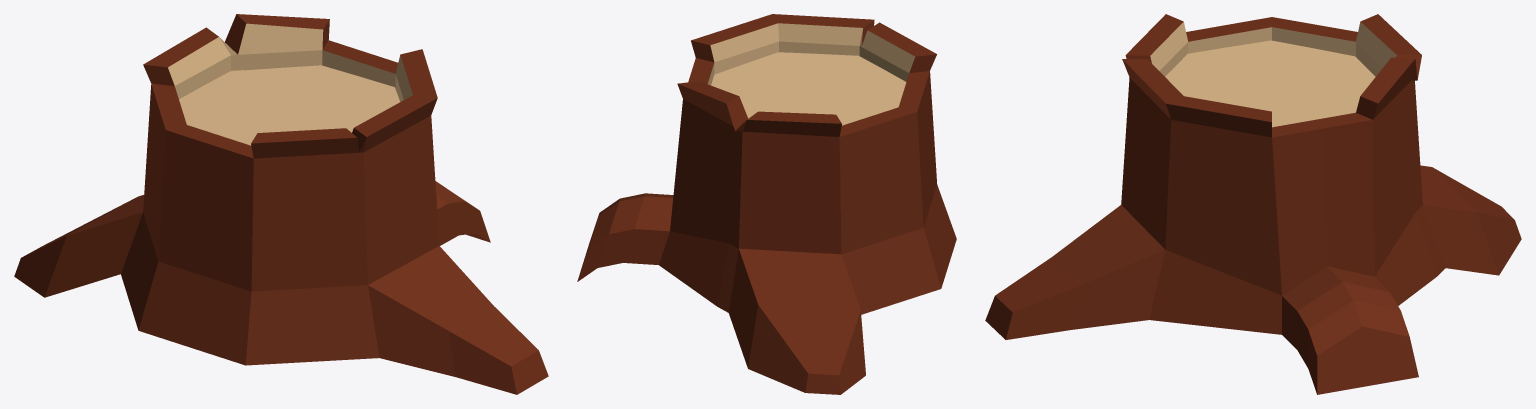
Rendered from Stump.fbx.
3 renders of one model, left to right at view 1: azimuth 30°, elevation 25°; view 2: azimuth 150°, elevation 25°; view 3: azimuth 270°, elevation 25°, orthographic. The views are drawn at different scales.
Parts seen in each view (by area): view 1: Circle.001; view 2: Circle.001; view 3: Circle.001.
Boxes of the visible parts, <box> form: Circle.001: <box>14,14,548,394</box>; Circle.001: <box>577,14,956,394</box>; Circle.001: <box>985,14,1521,394</box>.
Size of the model in its own units: 1.41 by 0.9002 by 1.75.
